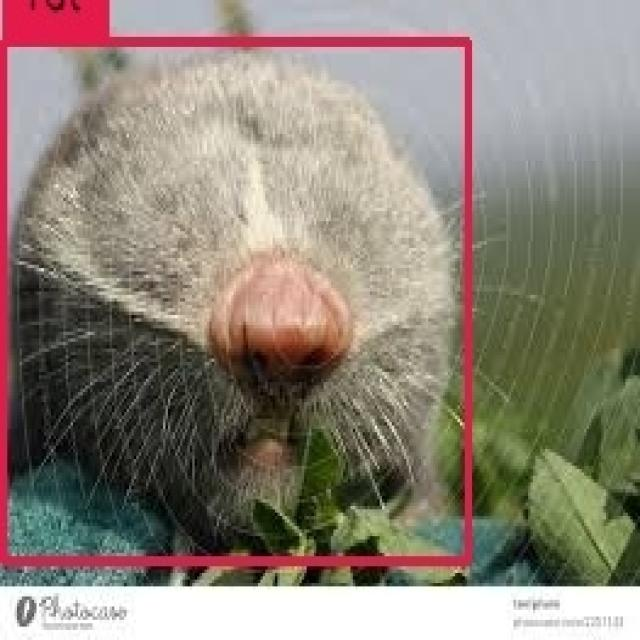rat: (4, 42, 468, 561)
